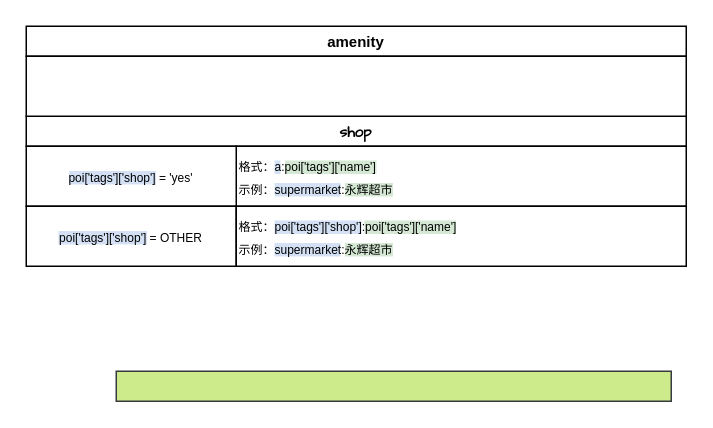
Some shapes in this 713 by 428 pixel diagram are drawn without their labels. Here are the shapes that lost their labels. From the top down, the centre of each, then its label:
At point 355,85: "格式： poi['tags']['amenity'] : poi['tags']['name'] 示例 ： fast_food : 麦当劳".
At point 393,385: "public_transport".
